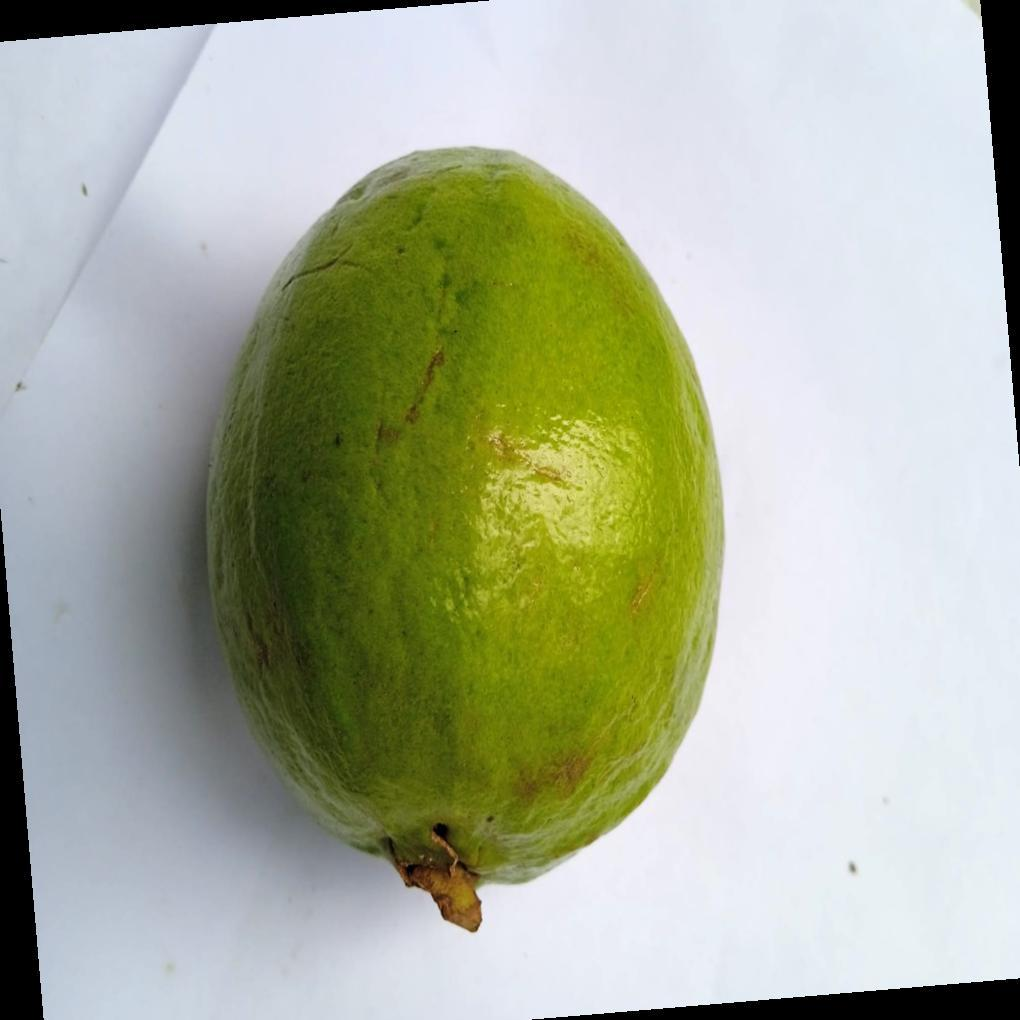FreshGuava: (203, 147, 727, 934)
